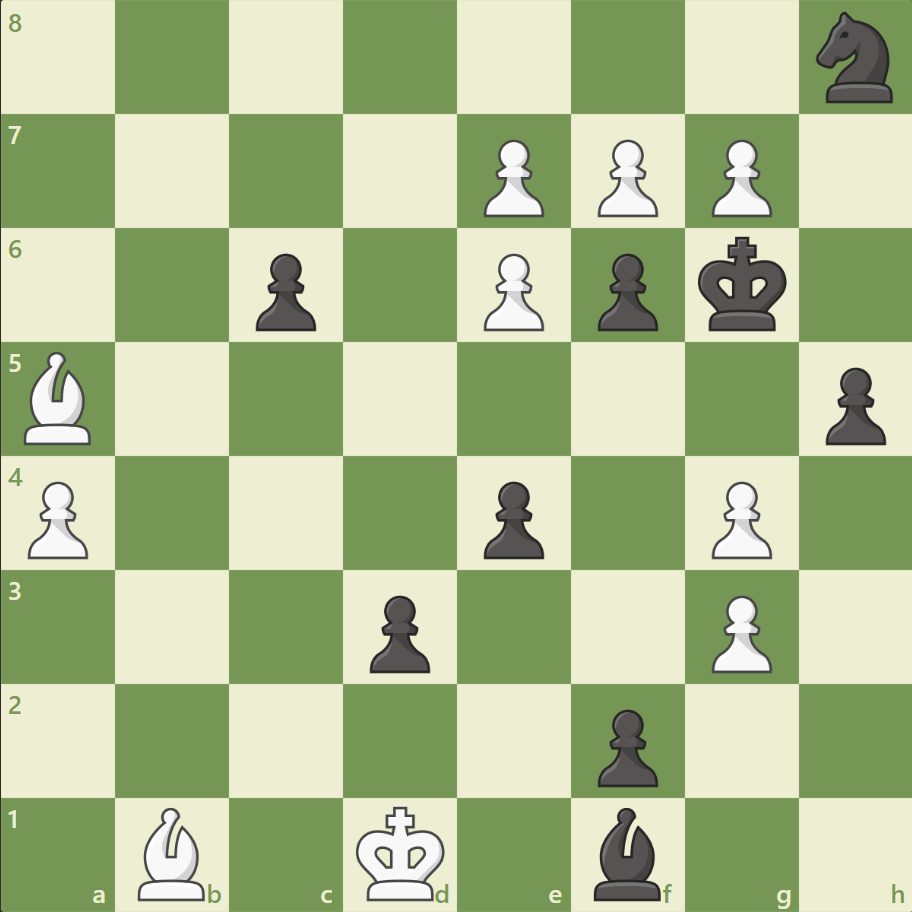B: (131, 801, 215, 904), (17, 347, 101, 449)
K: (351, 798, 451, 906)
P: (474, 132, 549, 223), (701, 132, 776, 223), (474, 246, 549, 337), (20, 473, 95, 564), (701, 473, 776, 564), (701, 586, 776, 677), (588, 132, 662, 223)
b: (585, 801, 669, 904)
k: (692, 231, 792, 339)
n: (806, 7, 903, 110)
p: (247, 246, 322, 337), (474, 473, 549, 564), (588, 246, 662, 337), (815, 359, 889, 450), (361, 586, 435, 677), (588, 700, 662, 791)
